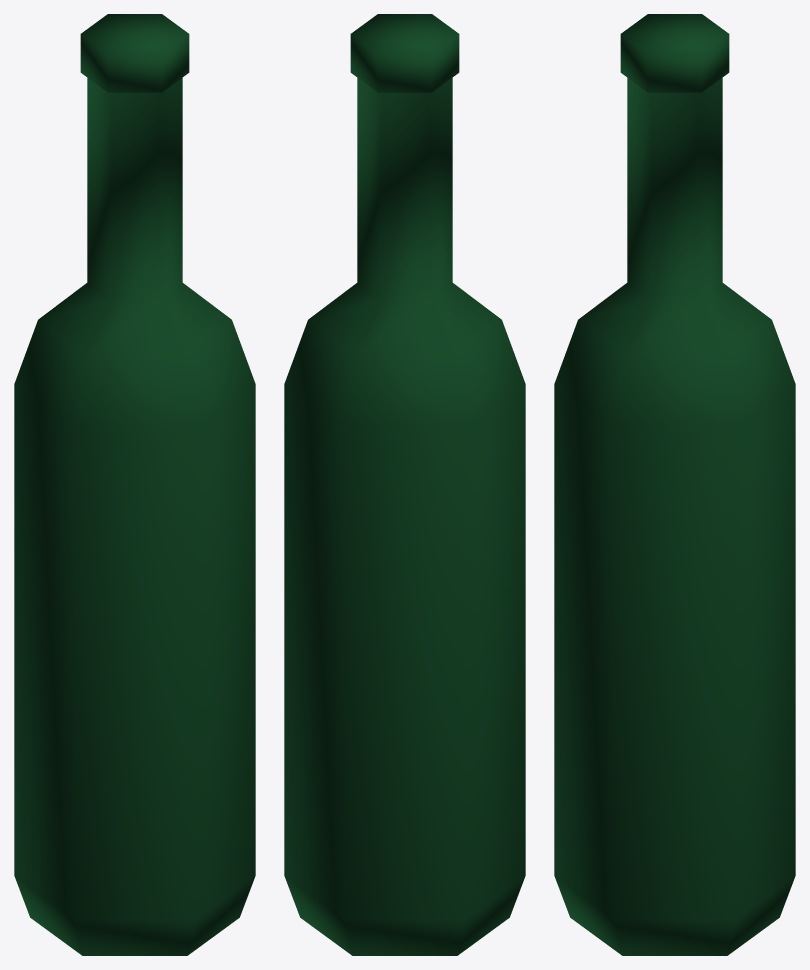
File: wino_p_zofia.glb
3 views of the same model, side by side, from view 1: azimuth 30°, elevation 25°; view 2: azimuth 150°, elevation 25°; view 3: azimuth 270°, elevation 25° (orthographic).
Visible parts, largest first — view 1: wino_p_zofia; view 2: wino_p_zofia; view 3: wino_p_zofia.
Boxes of the visible parts, x1,y1,x2,y2 form: wino_p_zofia: [14, 14, 255, 955]; wino_p_zofia: [284, 14, 525, 955]; wino_p_zofia: [554, 14, 795, 955].
Bounding box in the file's own units: 0.0794 × 0.3702 × 0.0916.
